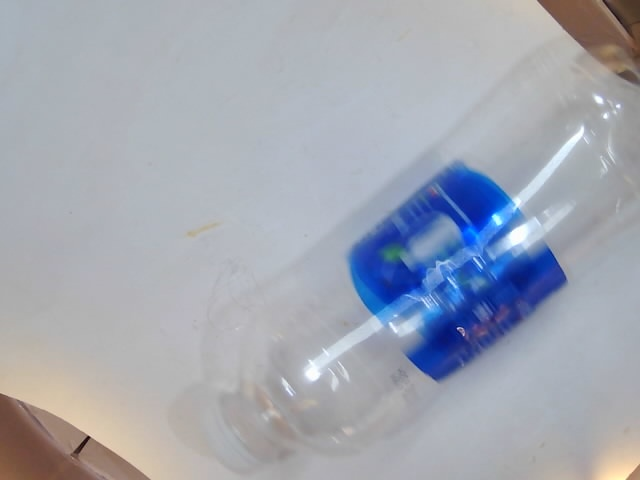plastic: (182, 45, 640, 471)
